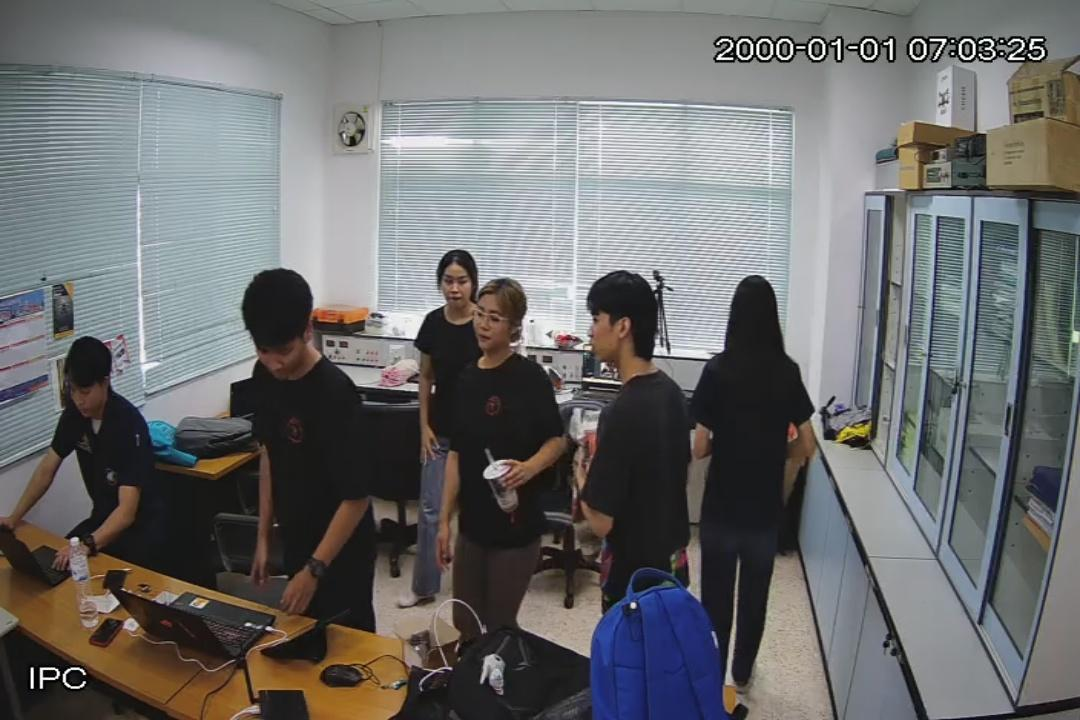normal: (243, 268, 385, 635), (698, 278, 816, 689), (436, 277, 554, 642), (0, 337, 165, 572), (576, 273, 688, 592), (397, 247, 487, 605)
